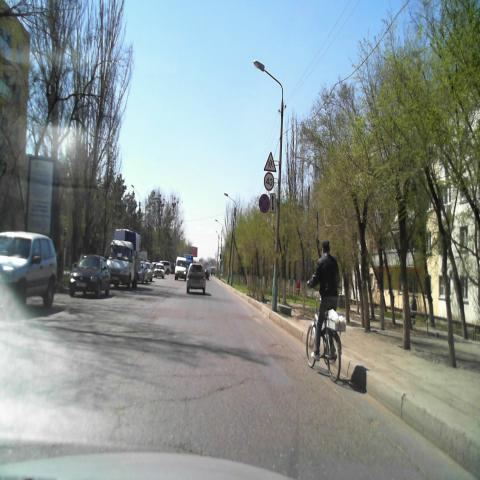8_2_4: (270, 192, 276, 213)
